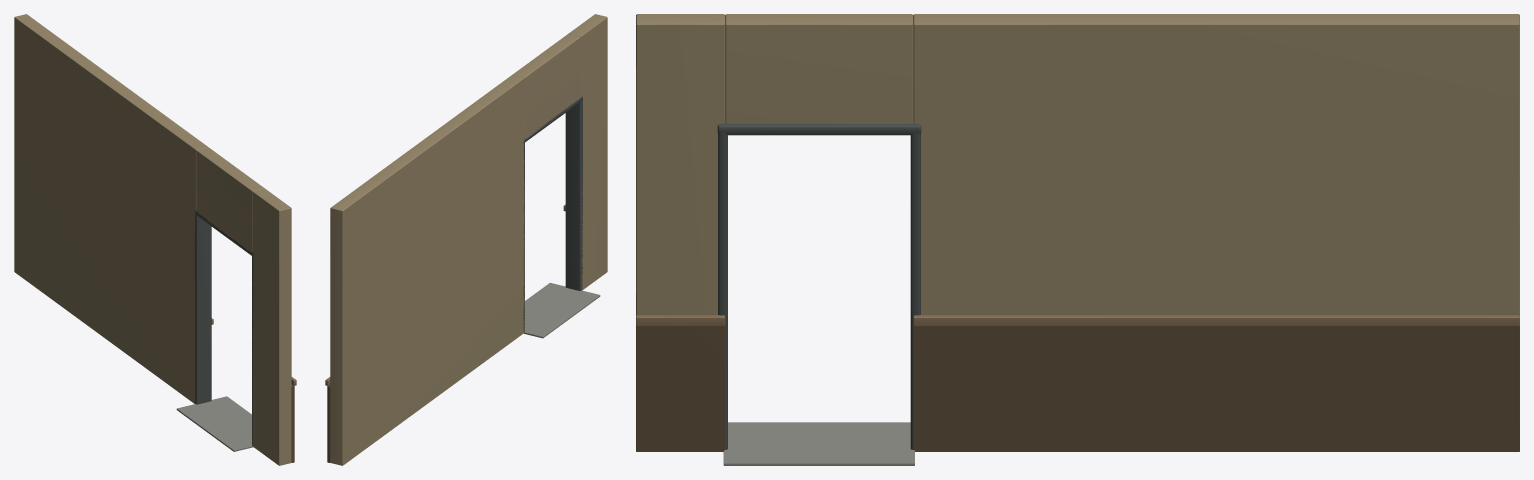
File: Repair_RightPartition62.fbx
3 views of the same model, side by side, from view 1: azimuth 30°, elevation 25°; view 2: azimuth 150°, elevation 25°; view 3: azimuth 270°, elevation 25° (orthographic). The views are drawn at different scales.
Visible parts, largest first — view 1: Repair_RightPartition62; view 2: Repair_RightPartition62; view 3: Repair_RightPartition62.
Part boxes in pixels (x1=…): Repair_RightPartition62: x1=14, y1=14, x2=296, y2=465; Repair_RightPartition62: x1=325, y1=14, x2=607, y2=465; Repair_RightPartition62: x1=636, y1=14, x2=1519, y2=465.
Size of the model in its own units: 62 by 301 by 564.
